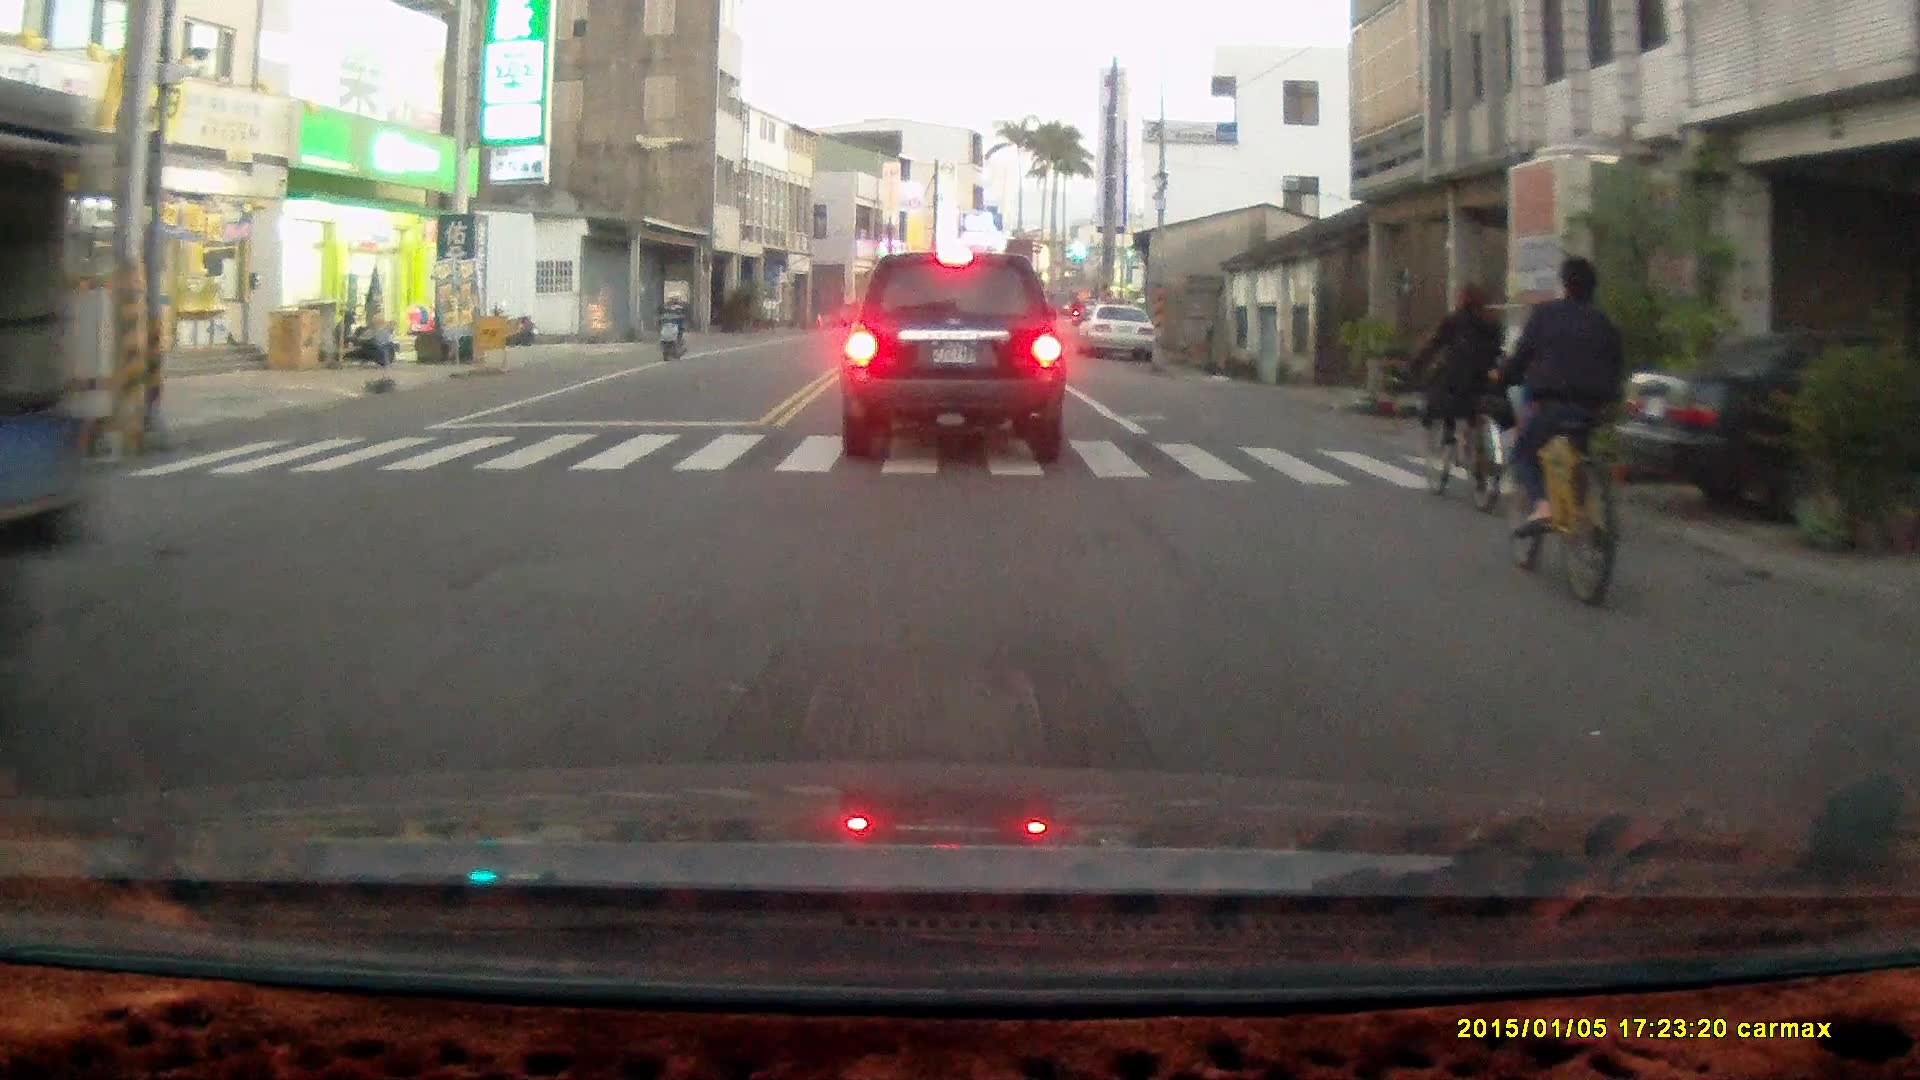rider: (1482, 252, 1624, 608), (1406, 279, 1508, 515), (655, 286, 690, 363)
vehicle: (1614, 331, 1920, 524), (1, 68, 101, 647), (835, 246, 1074, 461), (1084, 305, 1159, 365)
